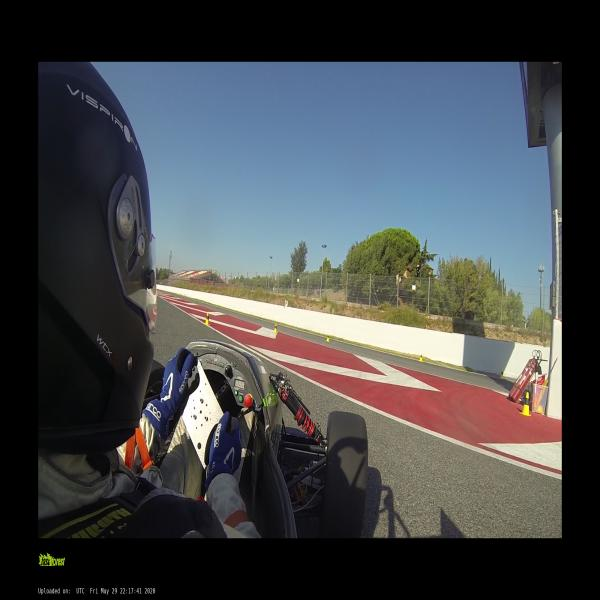yellow_cone: (520, 392, 532, 417), (205, 312, 210, 326), (419, 353, 423, 362), (500, 370, 504, 379), (326, 334, 330, 342), (274, 323, 277, 333)
